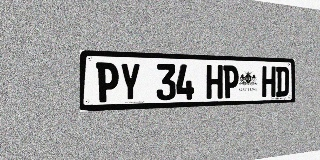3: (157, 64, 176, 101)
4: (176, 64, 194, 100)
D: (276, 67, 289, 97)
H: (206, 65, 223, 99), (262, 66, 276, 97)
P: (96, 62, 119, 103), (223, 65, 239, 98)
Y: (119, 63, 141, 102)
